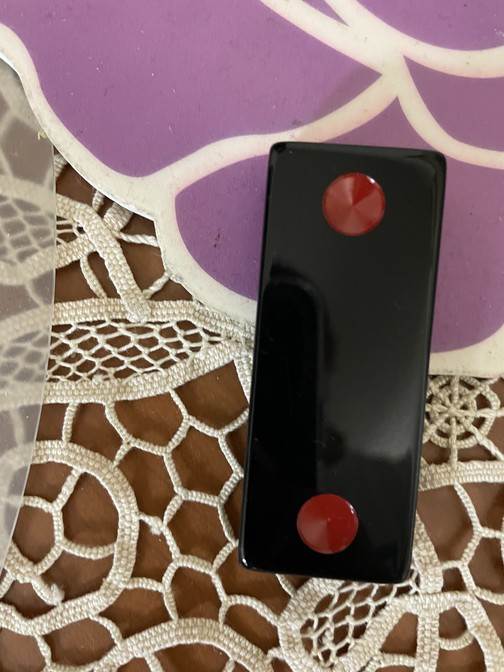earth: (241, 143, 446, 586)
